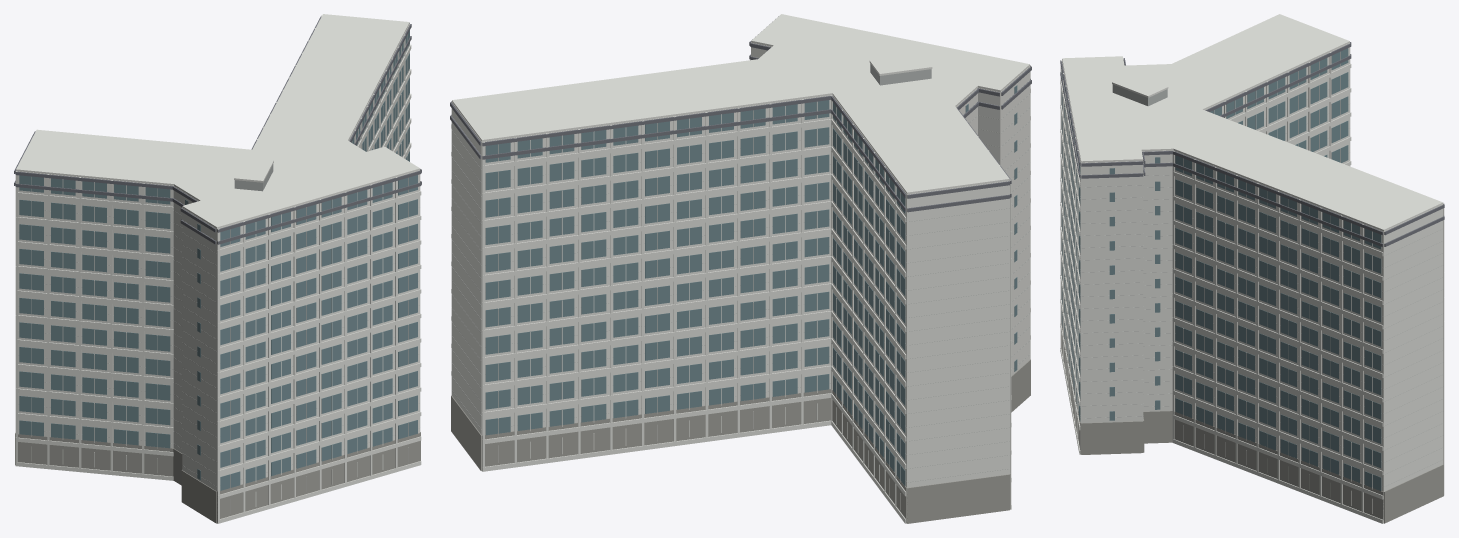
The model's file is bespoke-raemian-oksu-riverzen-101.glb.
The picture shows the model from 3 angles, left to right: view 1: azimuth 30°, elevation 25°; view 2: azimuth 150°, elevation 25°; view 3: azimuth 270°, elevation 25°; orthographic projection. The views are drawn at different scales.
Visible parts, largest first — view 1: Oksu101_editable_Oksu101_broad_white_facade_frames, Oksu101_editable_Oksu101_turquoise_balcony_glazing, Oksu101_editable_Oksu101_grey_stone_base, Oksu101_editable_Oksu101_two_charcoal_upper_wall_bands, Oksu101_editable_Oksu101_light_grey_solid_wall; view 2: Oksu101_editable_Oksu101_broad_white_facade_frames, Oksu101_editable_Oksu101_turquoise_balcony_glazing, Oksu101_editable_Oksu101_grey_stone_base, Oksu101_editable_Oksu101_two_charcoal_upper_wall_bands, Oksu101_editable_Oksu101_light_grey_solid_wall; view 3: Oksu101_editable_Oksu101_broad_white_facade_frames, Oksu101_editable_Oksu101_turquoise_balcony_glazing, Oksu101_editable_Oksu101_grey_stone_base, Oksu101_editable_Oksu101_two_charcoal_upper_wall_bands, Oksu101_editable_Oksu101_light_grey_solid_wall.
Boxes of the visible parts, box(x1,y1,x2,y2) form: Oksu101_editable_Oksu101_broad_white_facade_frames: box(15, 14, 421, 523); Oksu101_editable_Oksu101_turquoise_balcony_glazing: box(19, 30, 417, 490); Oksu101_editable_Oksu101_grey_stone_base: box(15, 432, 420, 523); Oksu101_editable_Oksu101_two_charcoal_upper_wall_bands: box(14, 16, 421, 244); Oksu101_editable_Oksu101_light_grey_solid_wall: box(18, 59, 419, 486); Oksu101_editable_Oksu101_broad_white_facade_frames: box(451, 14, 1030, 523); Oksu101_editable_Oksu101_turquoise_balcony_glazing: box(485, 85, 1017, 485); Oksu101_editable_Oksu101_grey_stone_base: box(451, 359, 1030, 523); Oksu101_editable_Oksu101_two_charcoal_upper_wall_bands: box(450, 16, 1031, 212); Oksu101_editable_Oksu101_light_grey_solid_wall: box(452, 57, 1029, 482); Oksu101_editable_Oksu101_broad_white_facade_frames: box(1060, 14, 1444, 523); Oksu101_editable_Oksu101_turquoise_balcony_glazing: box(1061, 48, 1381, 490); Oksu101_editable_Oksu101_grey_stone_base: box(1061, 323, 1443, 523); Oksu101_editable_Oksu101_two_charcoal_upper_wall_bands: box(1060, 42, 1444, 246); Oksu101_editable_Oksu101_light_grey_solid_wall: box(1080, 64, 1442, 486).
Bounding box in the file's own units: 53.61 × 35 × 40.1.
